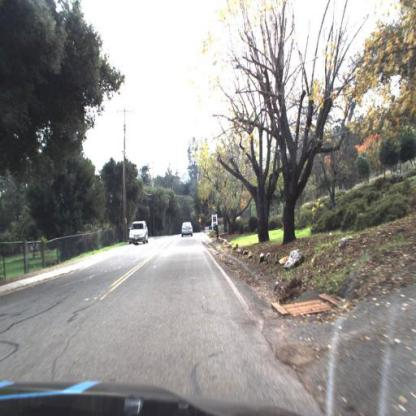car: (120, 218, 150, 250), (179, 220, 196, 243)
